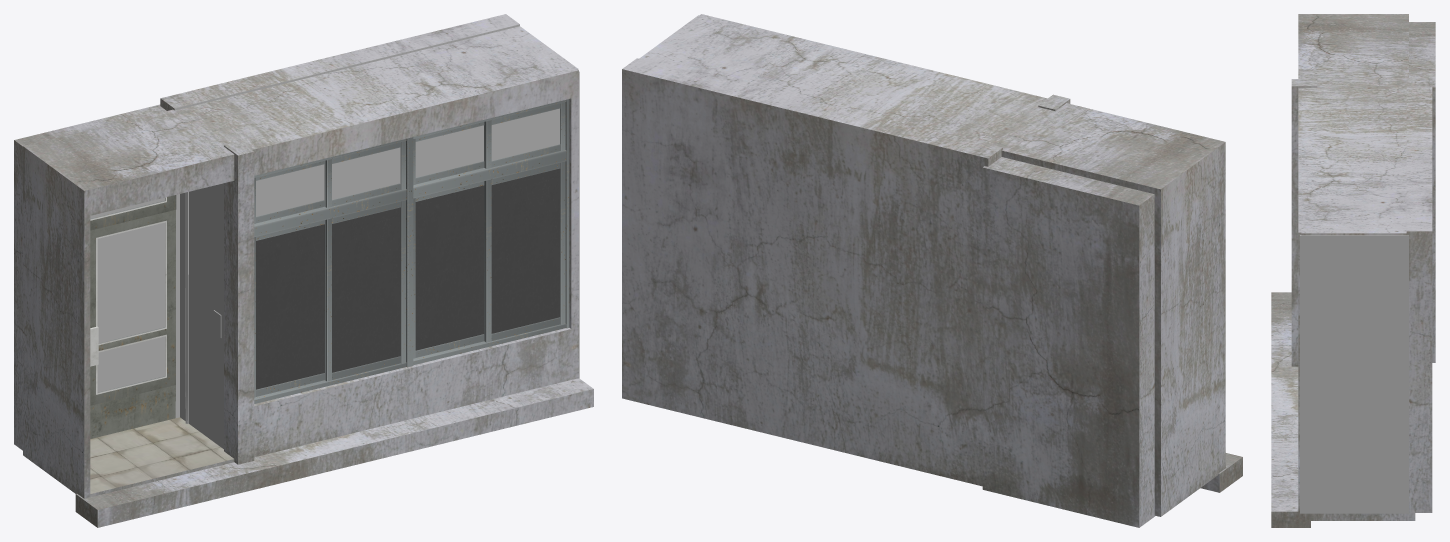
File: shop_f_null08a.fbx
3 renders of one model, left to right at view 1: azimuth 30°, elevation 25°; view 2: azimuth 150°, elevation 25°; view 3: azimuth 270°, elevation 25°, orthographic. The views are drawn at different scales.
Parts seen in each view (by area): view 1: shop_f_null08a; view 2: shop_f_null08a; view 3: shop_f_null08a.
Part boxes in pixels (box(x1,y1,x2,y2)): shop_f_null08a: box(14, 14, 593, 527); shop_f_null08a: box(622, 14, 1242, 527); shop_f_null08a: box(1271, 14, 1435, 527).
Bounding box in the file's own units: 5.42 × 3.41 × 1.71.
